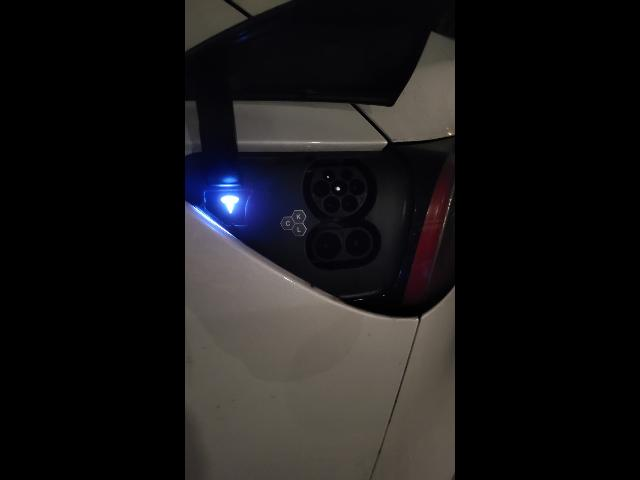inlet: (311, 167, 368, 217)
inlet-above-left: (323, 170, 336, 182)
inlet-above-right: (341, 169, 353, 180)
inlet-below-left: (323, 196, 340, 213)
inlet-below-right: (341, 194, 358, 212)
inlet-circle: (331, 179, 348, 197)
inlet-circle-left: (313, 180, 330, 198)
inlet-circle-right: (349, 178, 366, 195)
inlet-minus: (345, 229, 371, 256)
inlet-plus: (315, 232, 342, 259)
